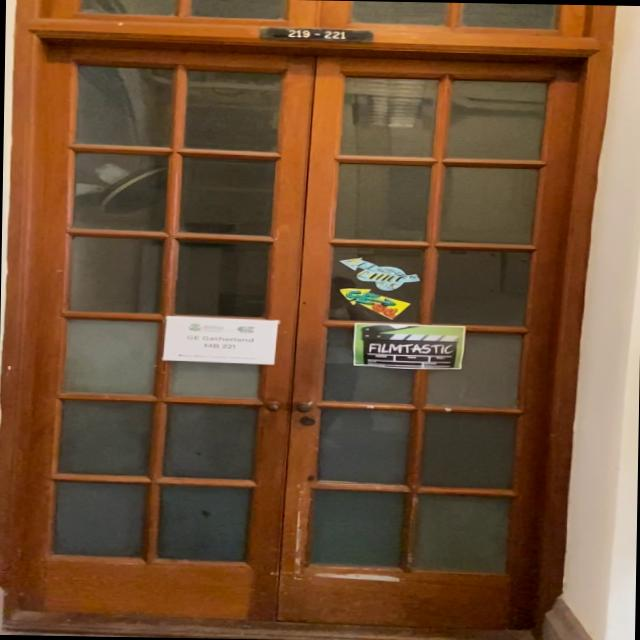room221: (253, 22, 378, 45)
